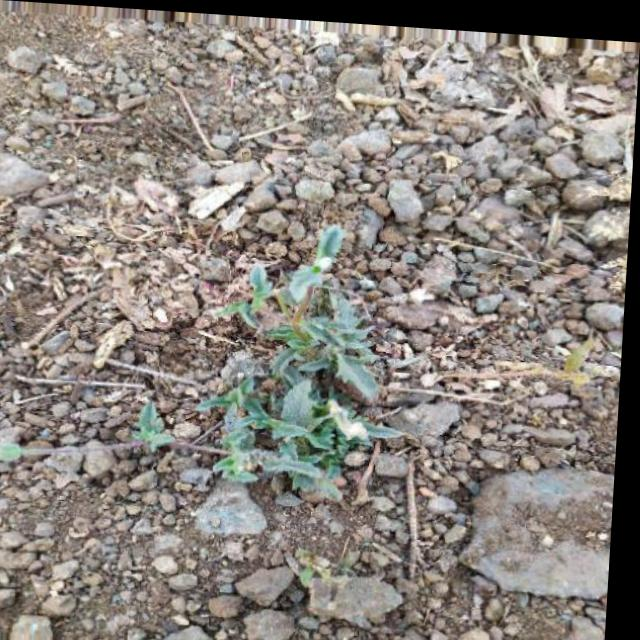weed: (128, 228, 452, 532)
